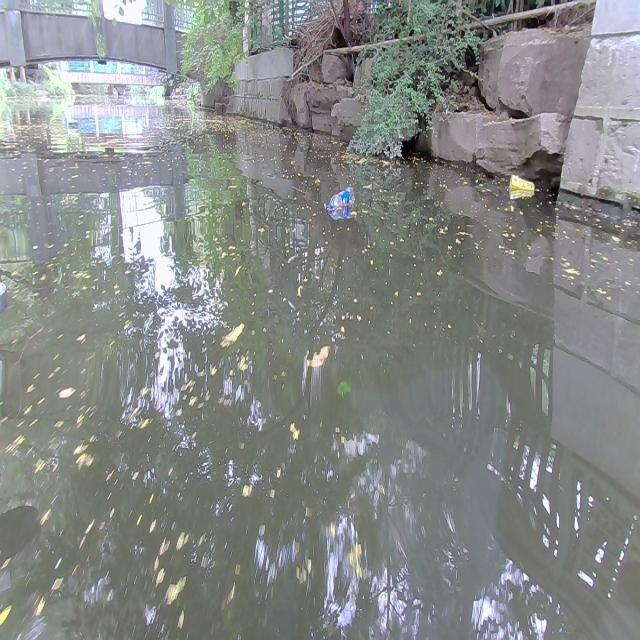bottle: (323, 186, 355, 210), (509, 172, 541, 192)
